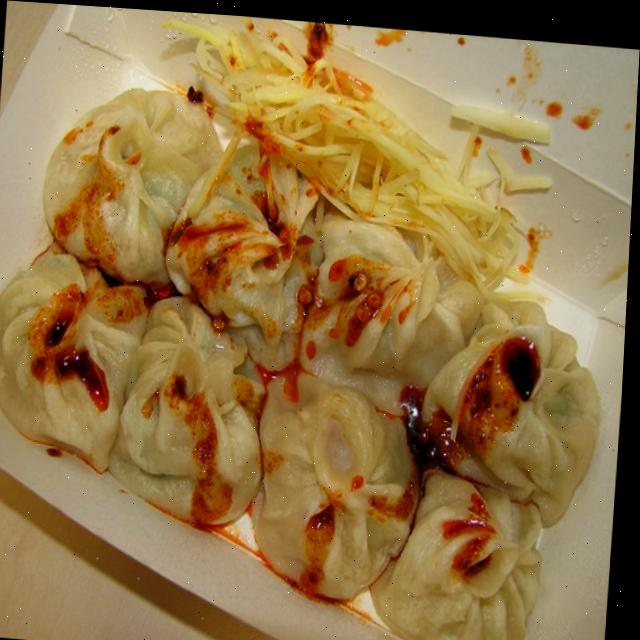带馅早点: (0, 67, 616, 640)
